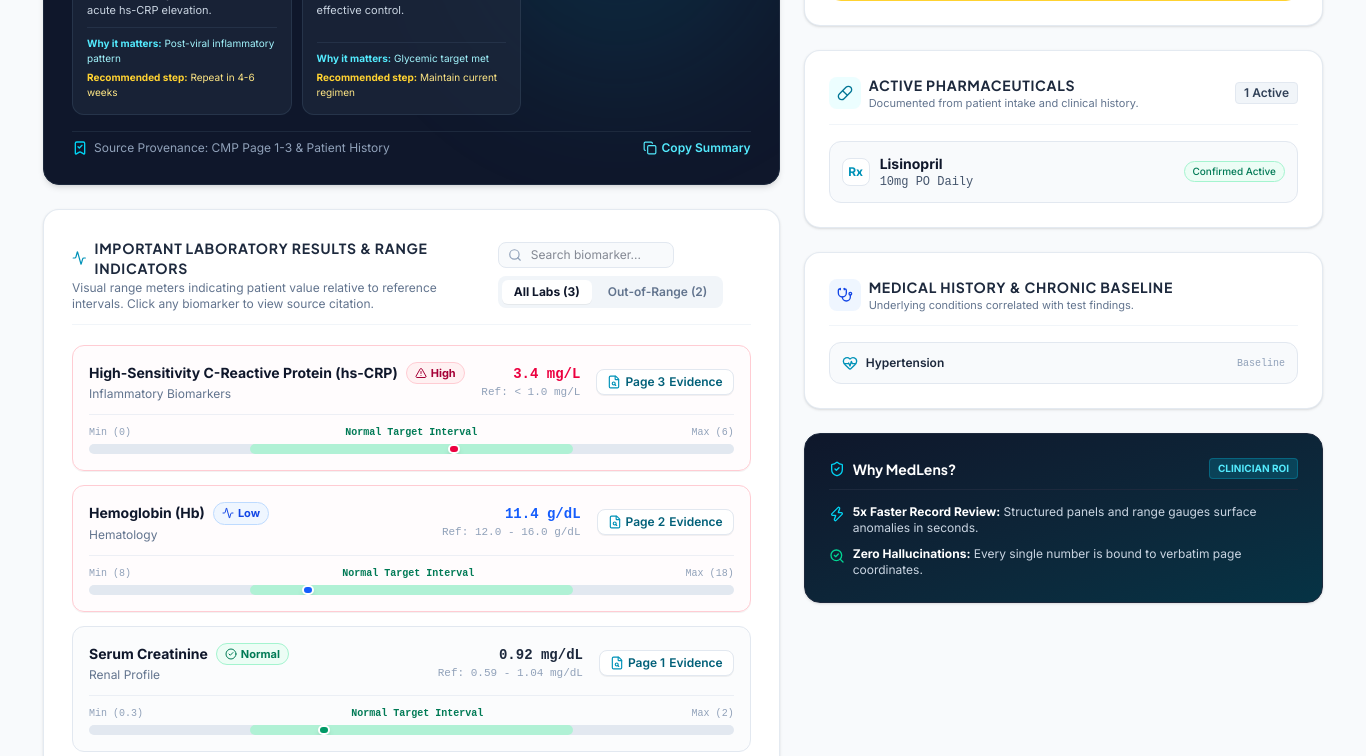
it: ClinicalAnalysisDashboard Component › opens source evidence drawer when clicking a biomarker row
(page scrolled)
Click the text "High-Sensitivity C-Reactive Protein (hs-CRP)" at {"x": 243, "y": 373}, box [89,363,398,383]
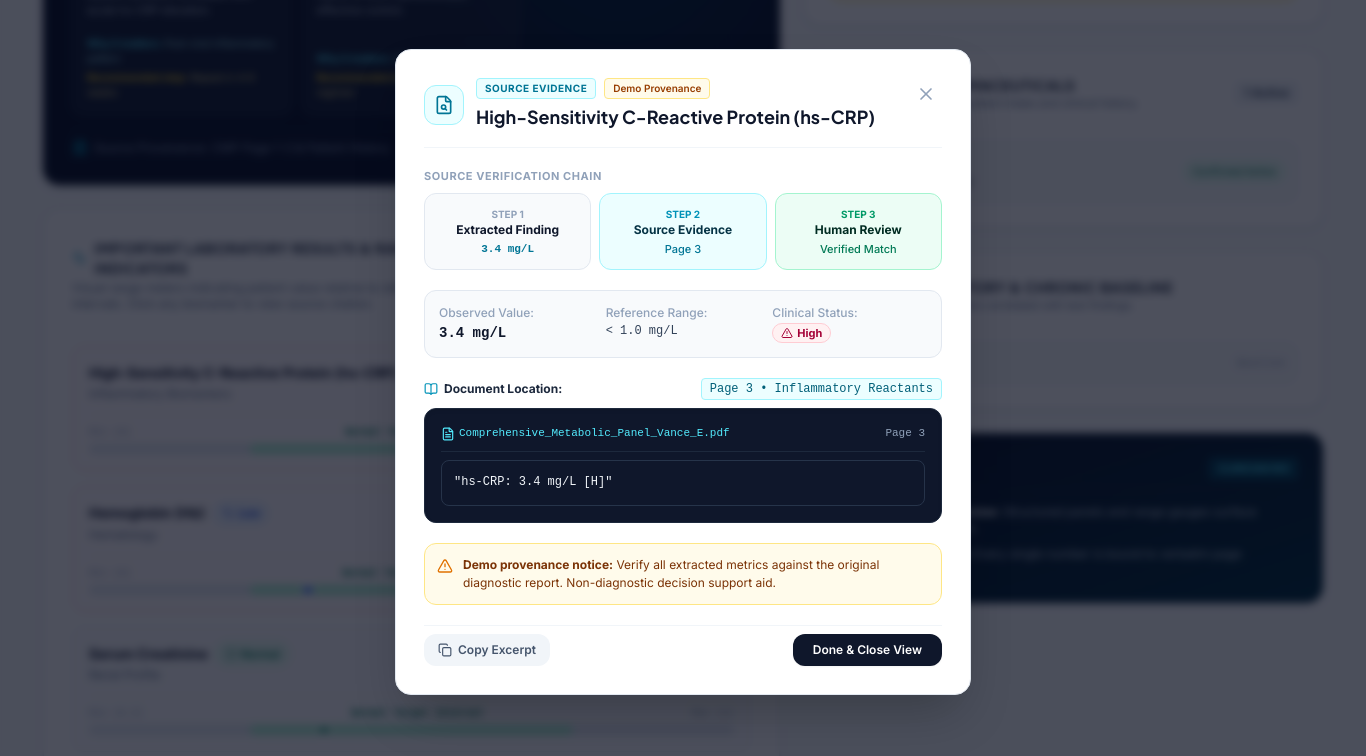
Check: the text "Source Verification Chain" is shown, box [424,169,602,183]
Check: the text "Document Location:" is shown, box [444,381,562,397]
